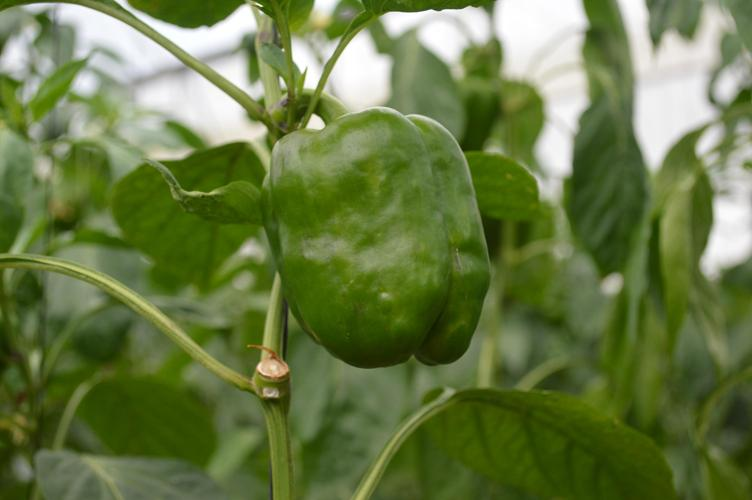BellPepper: (264, 108, 510, 373)
